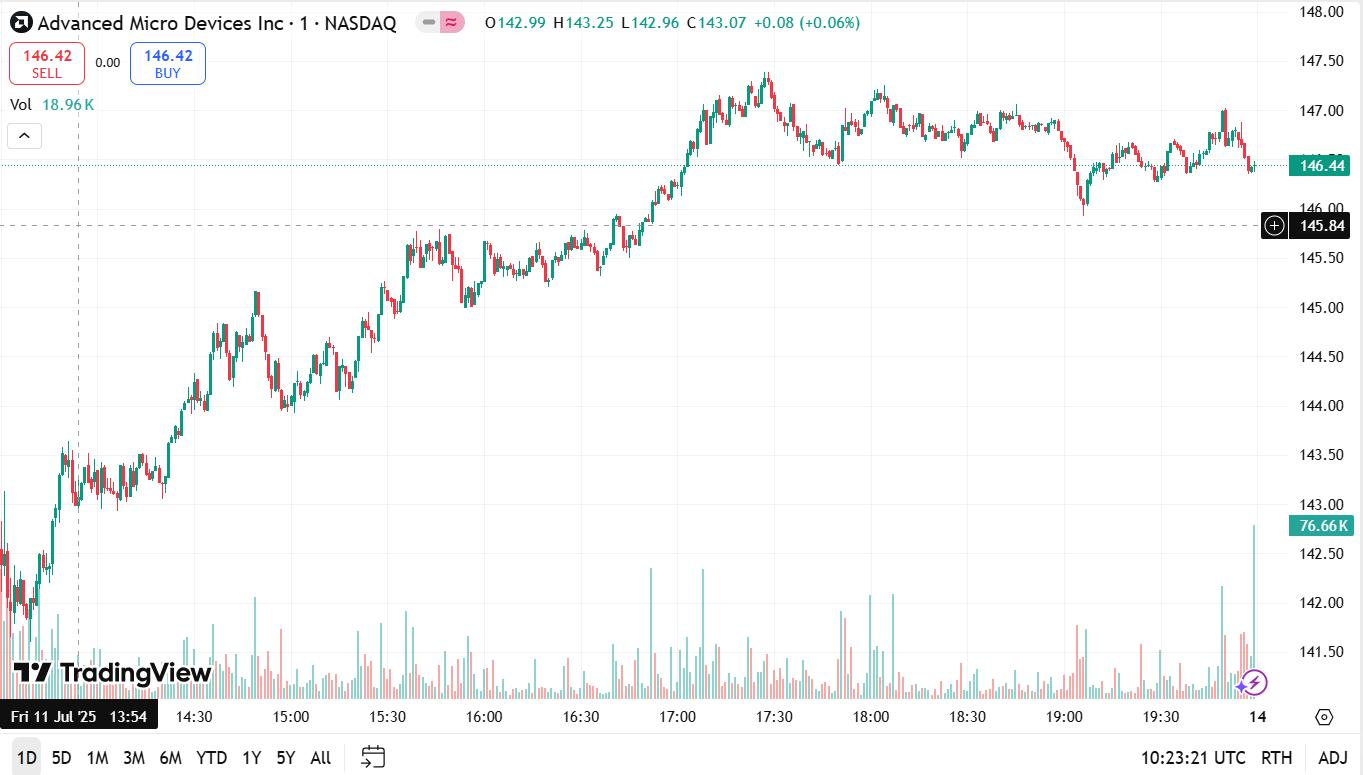Downtrend: (781, 83, 843, 182), (1049, 102, 1090, 222)
Sideways: (861, 82, 965, 163), (1110, 132, 1191, 205), (478, 233, 560, 297)
Uptrend: (606, 79, 773, 281), (83, 317, 238, 520), (347, 226, 432, 407), (24, 453, 70, 622)
